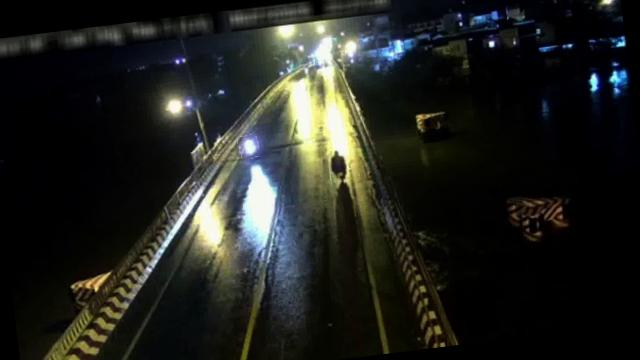Bike: (327, 148, 348, 182), (237, 134, 260, 160)
